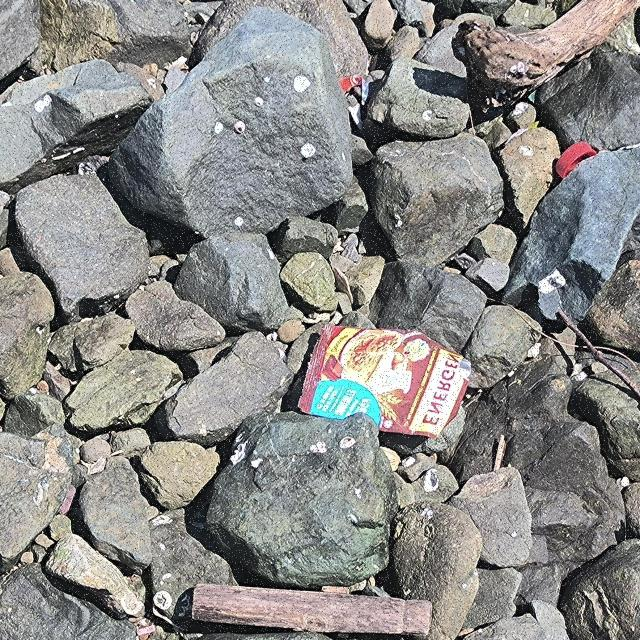plastic_waste: (298, 324, 474, 441), (556, 141, 598, 180)
